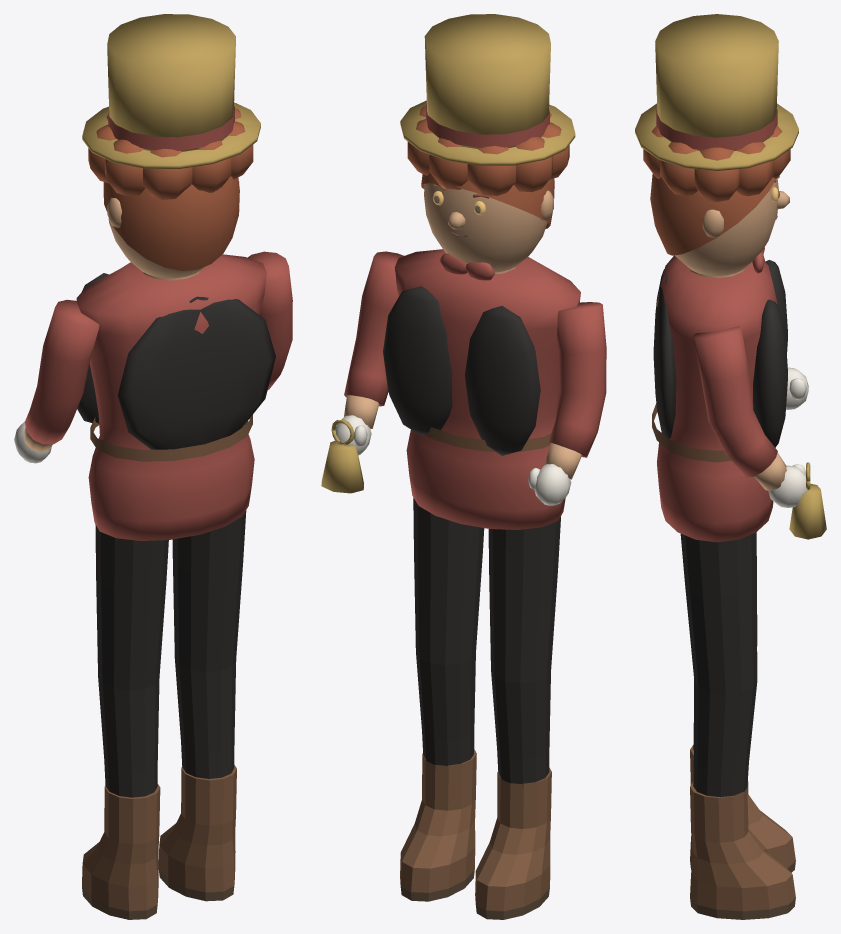
The model's file is SM_NPC_MELODIA.glb.
3 renders of one model, left to right at view 1: azimuth 30°, elevation 25°; view 2: azimuth 150°, elevation 25°; view 3: azimuth 270°, elevation 25°, orthographic. The views are drawn at different scales.
Parts seen in each view (by area): view 1: SM_NPC_MELODIA_BODY, SM_NPC_MELODIA_HAIR, SM_NPC_MELODIA_LEG_L, SM_NPC_MELODIA_LEG_R, SM_NPC_MELODIA_ARM_L, SM_NPC_MELODIA_ARM_R, SM_NPC_MELODIA_HEAD; view 2: SM_NPC_MELODIA_BODY, SM_NPC_MELODIA_HAIR, SM_NPC_MELODIA_LEG_L, SM_NPC_MELODIA_LEG_R, SM_NPC_MELODIA_ARM_L, SM_NPC_MELODIA_ARM_R, SM_NPC_MELODIA_HEAD; view 3: SM_NPC_MELODIA_HAIR, SM_NPC_MELODIA_LEG_R, SM_NPC_MELODIA_BODY, SM_NPC_MELODIA_ARM_R, SM_NPC_MELODIA_HEAD, SM_NPC_MELODIA_LEG_L, SM_NPC_MELODIA_ARM_L.
Part boxes in pixels (box(x1,y1,x2,y2)): SM_NPC_MELODIA_BODY: box(76, 254, 275, 540); SM_NPC_MELODIA_HAIR: box(82, 14, 260, 270); SM_NPC_MELODIA_LEG_L: box(82, 524, 168, 919); SM_NPC_MELODIA_LEG_R: box(158, 510, 246, 901); SM_NPC_MELODIA_ARM_L: box(14, 299, 99, 463); SM_NPC_MELODIA_ARM_R: box(245, 251, 292, 425); SM_NPC_MELODIA_HEAD: box(107, 181, 239, 278); SM_NPC_MELODIA_BODY: box(383, 249, 580, 529); SM_NPC_MELODIA_HAIR: box(400, 14, 575, 228); SM_NPC_MELODIA_LEG_L: box(475, 516, 560, 919); SM_NPC_MELODIA_LEG_R: box(400, 498, 484, 901); SM_NPC_MELODIA_ARM_L: box(528, 302, 606, 505); SM_NPC_MELODIA_ARM_R: box(321, 251, 403, 493); SM_NPC_MELODIA_HEAD: box(424, 183, 553, 272); SM_NPC_MELODIA_HAIR: box(635, 14, 798, 255); SM_NPC_MELODIA_LEG_R: box(680, 532, 795, 919); SM_NPC_MELODIA_BODY: box(652, 247, 787, 542); SM_NPC_MELODIA_ARM_R: box(692, 326, 826, 539); SM_NPC_MELODIA_HEAD: box(675, 178, 789, 275); SM_NPC_MELODIA_LEG_L: box(690, 532, 795, 872); SM_NPC_MELODIA_ARM_L: box(786, 367, 808, 409).
Bounding box in the file's own units: 0.6008 × 1.98 × 0.406.
